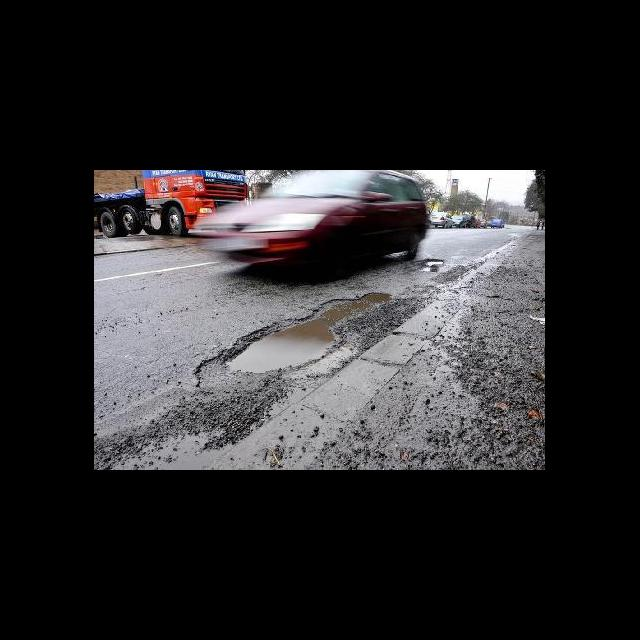lubang_kecil: (203, 288, 392, 387), (412, 258, 448, 279)
